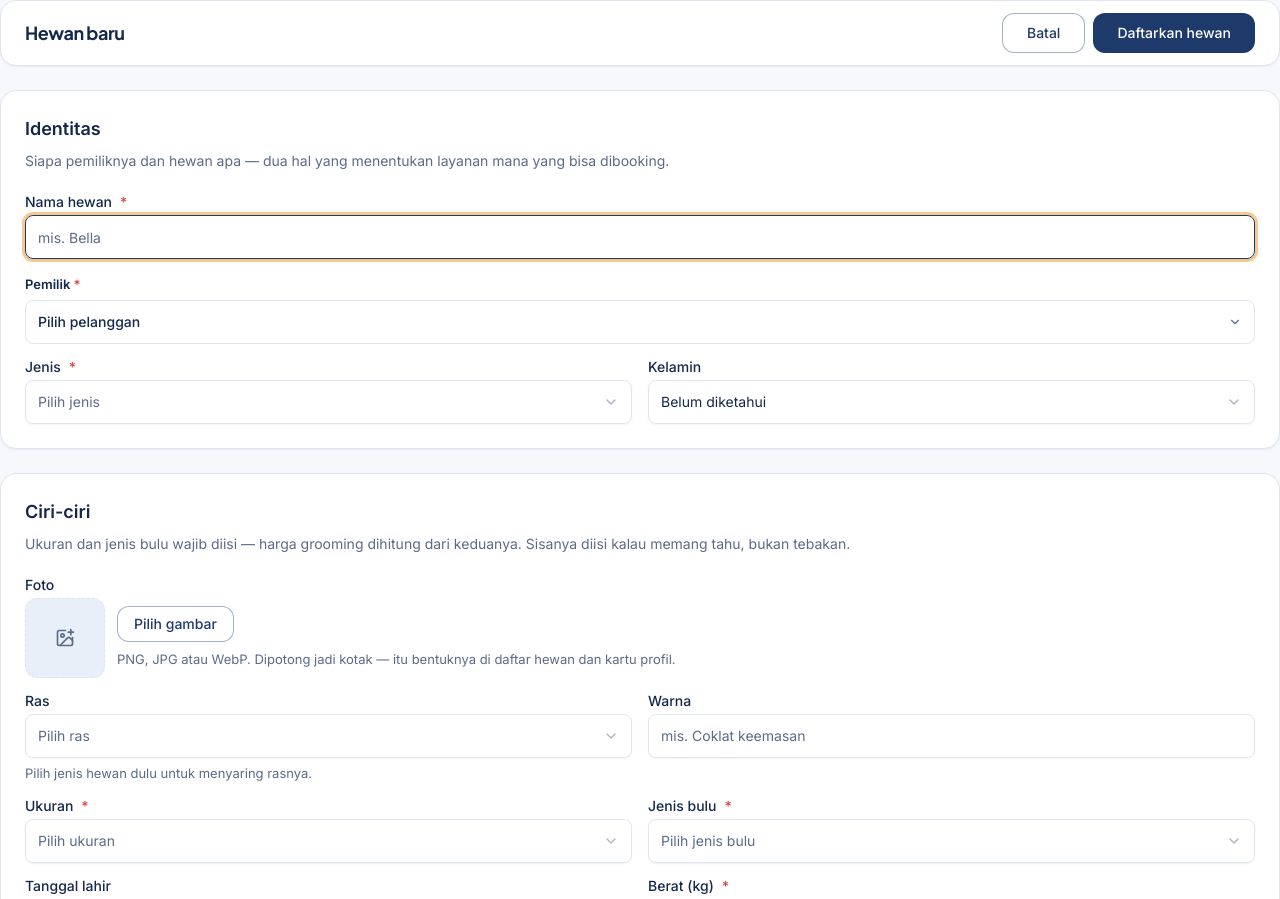
Scenario: PetForm — registering › offers the species the shop added, and not the ones it retired
Click the dropdown labelled "jenis": [69, 401] box [25,380,632,424]
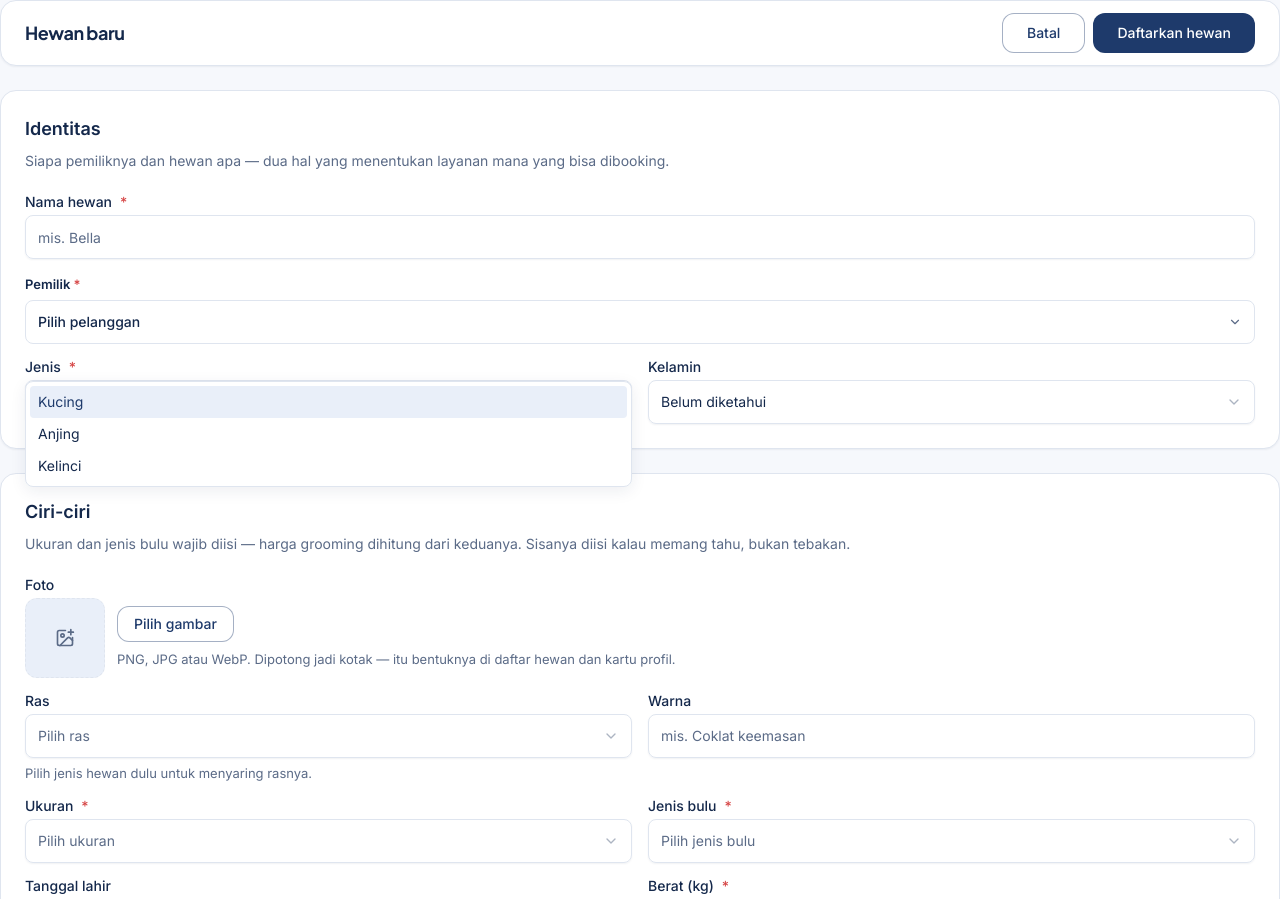
Now the option "Kelinci" is shown, box [38,457,82,474]
Now the option "Kucing" is shown, box [30,386,627,418]
